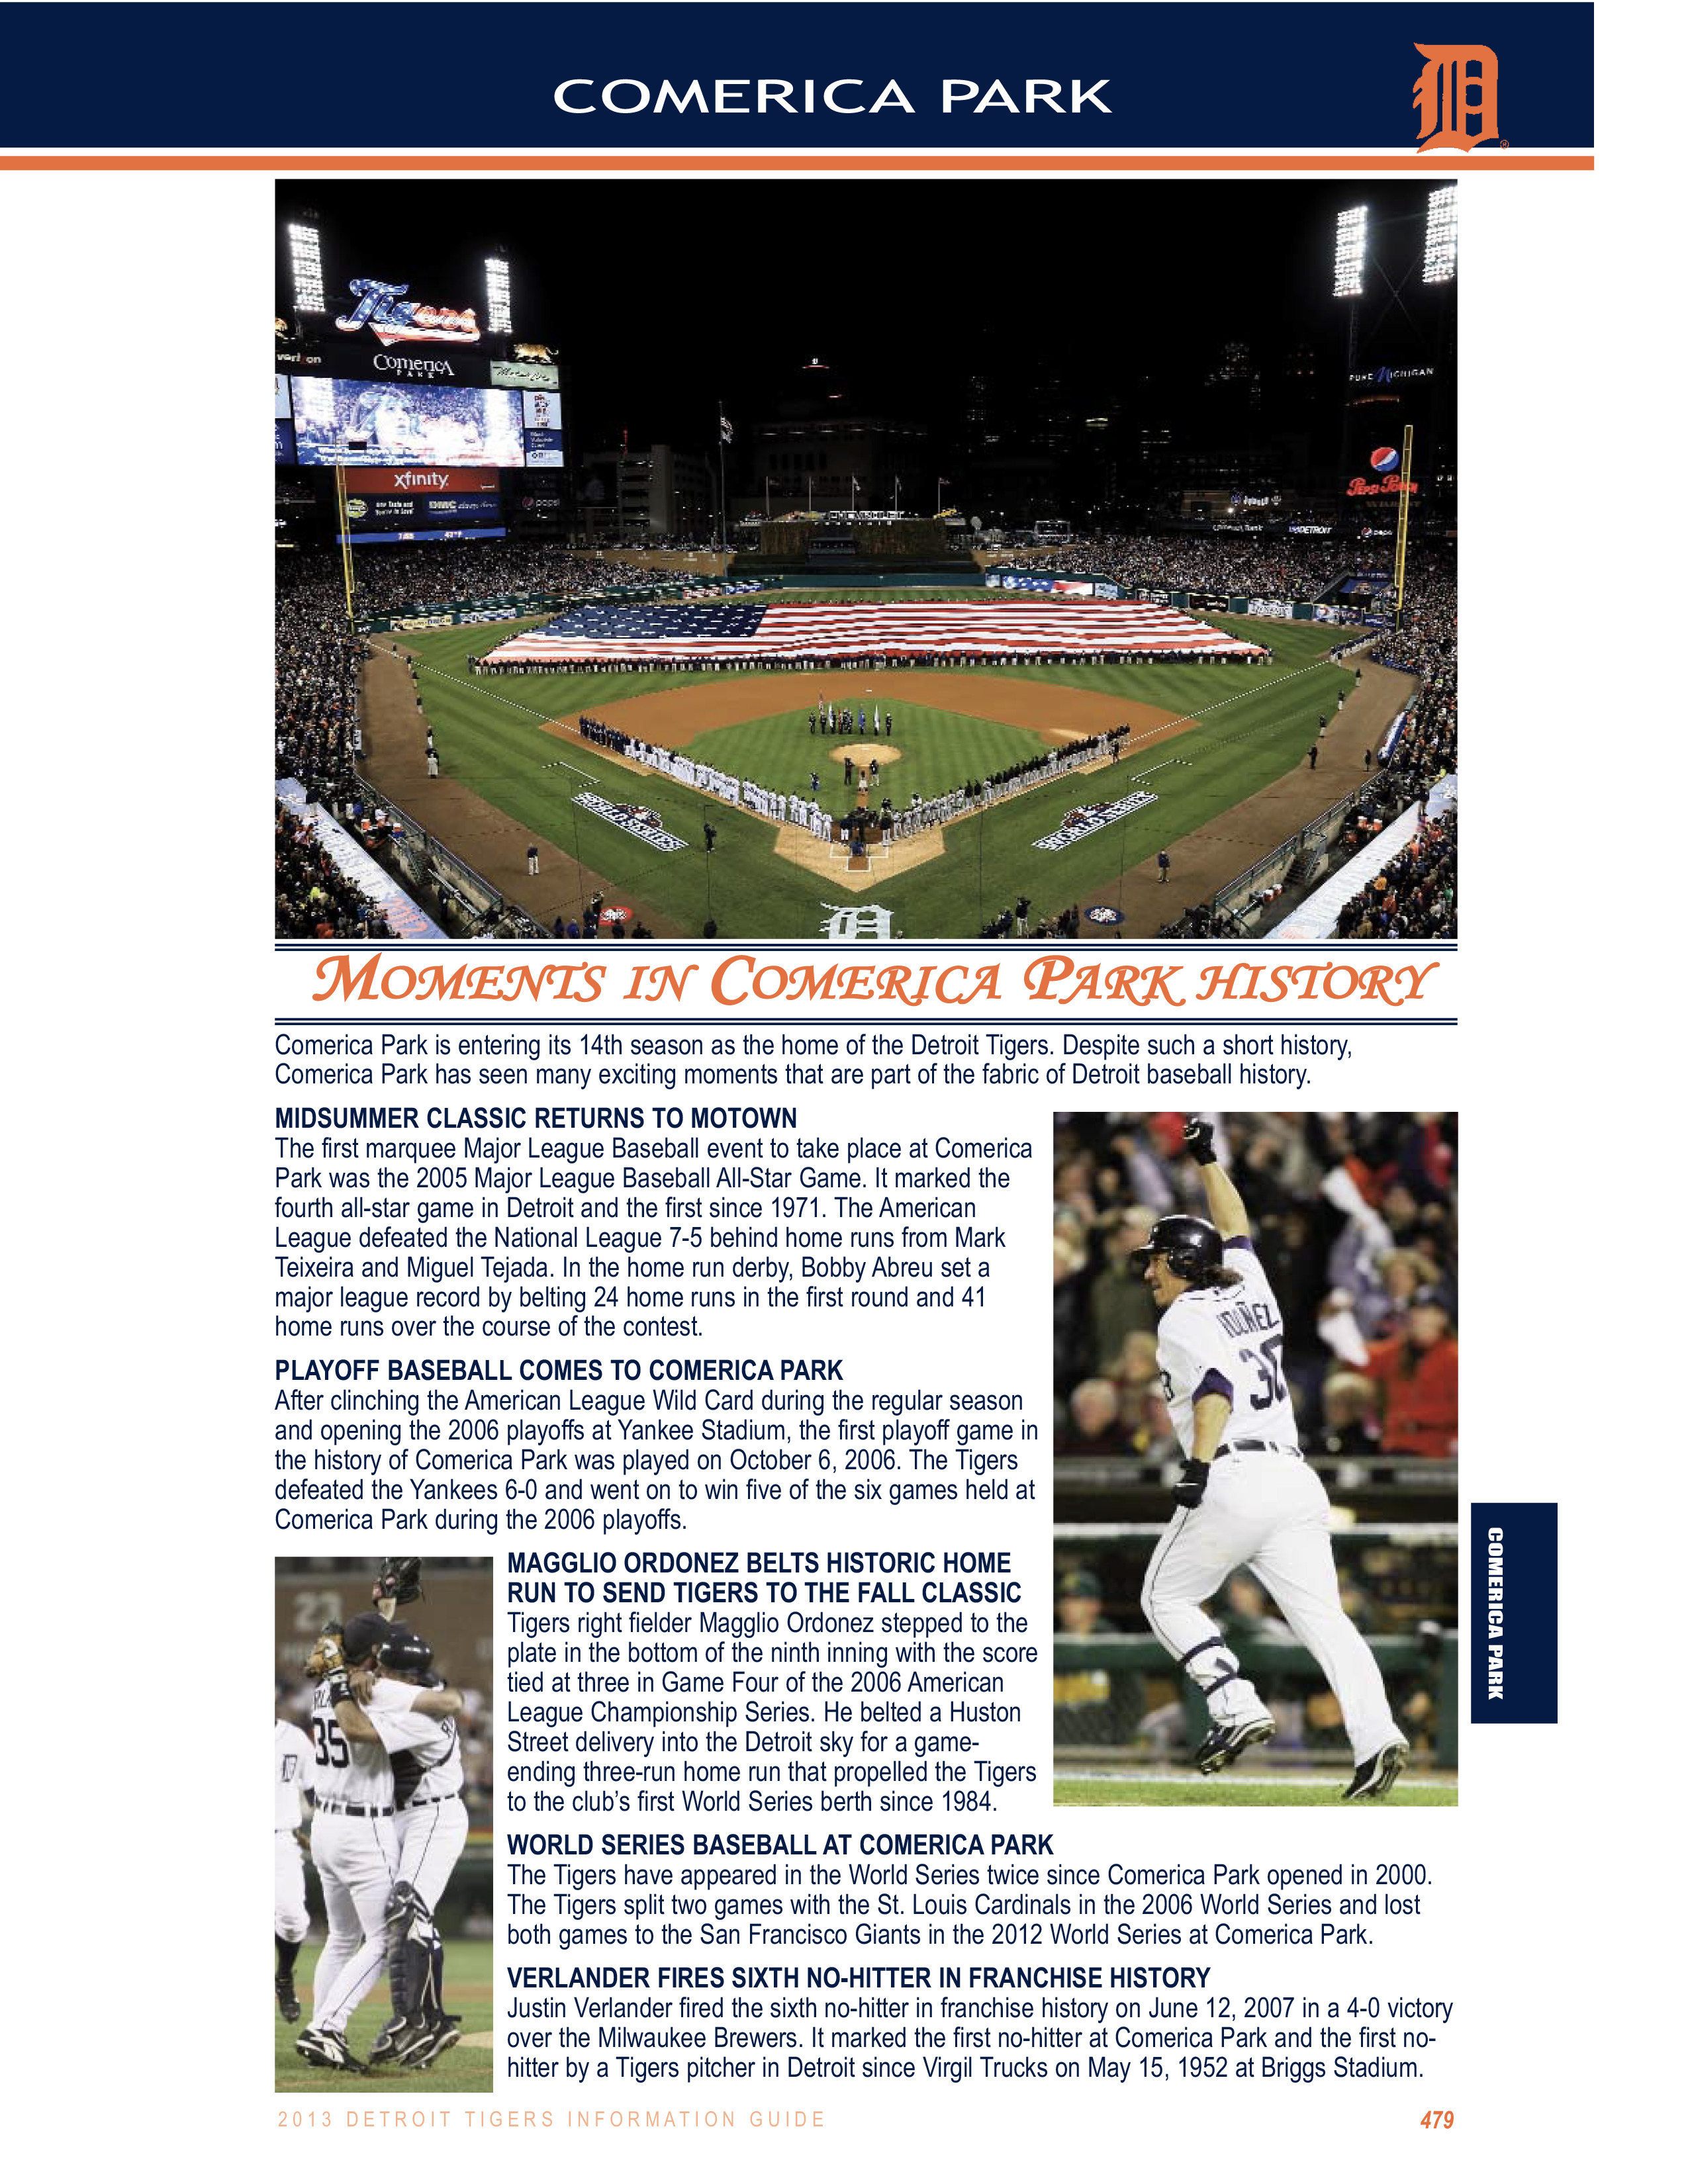figure: (270, 181, 1482, 945), (1046, 1115, 1468, 1815), (273, 1555, 493, 2111), (1411, 30, 1512, 170)
section: (307, 945, 1438, 1016), (550, 64, 1126, 121), (259, 1088, 816, 1142), (243, 1345, 849, 1392), (496, 1964, 1222, 1998), (493, 1828, 1062, 1858)
text: (250, 1145, 1016, 1351), (259, 1395, 1028, 1551), (504, 1611, 1043, 1819), (507, 1998, 1479, 2094), (507, 1865, 1442, 1964), (270, 1019, 1362, 1088), (507, 1548, 1035, 1615)
